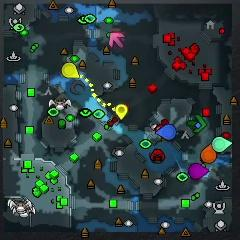p1: (155, 123, 176, 139)
p2: (213, 137, 233, 154)
p3: (189, 163, 209, 179)
p4: (63, 63, 79, 79)
p5: (200, 143, 217, 163)
x1: (109, 31, 124, 48)
x4: (187, 114, 206, 132)
